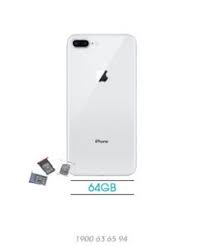iphone: (63, 29, 139, 178)
